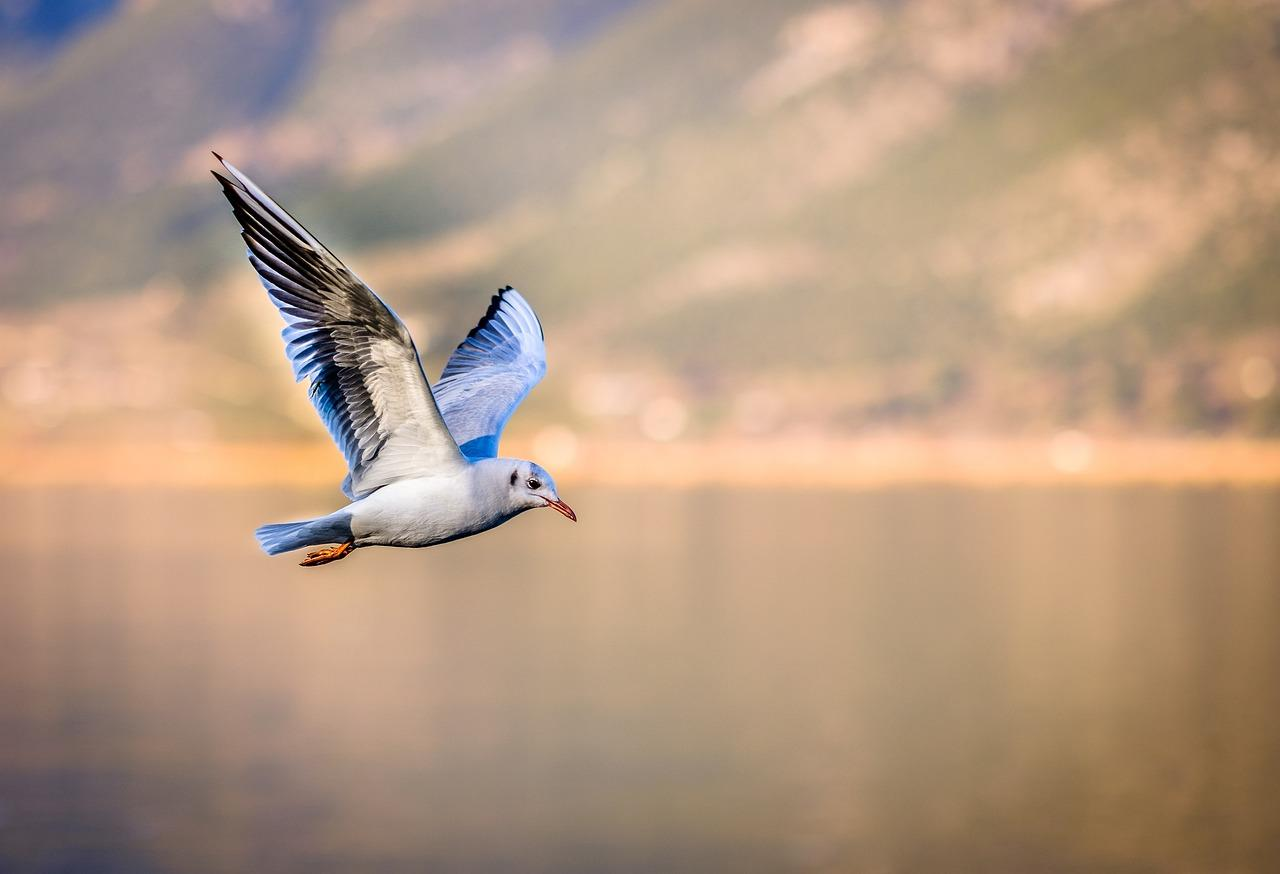bird: (213, 154, 575, 565)
